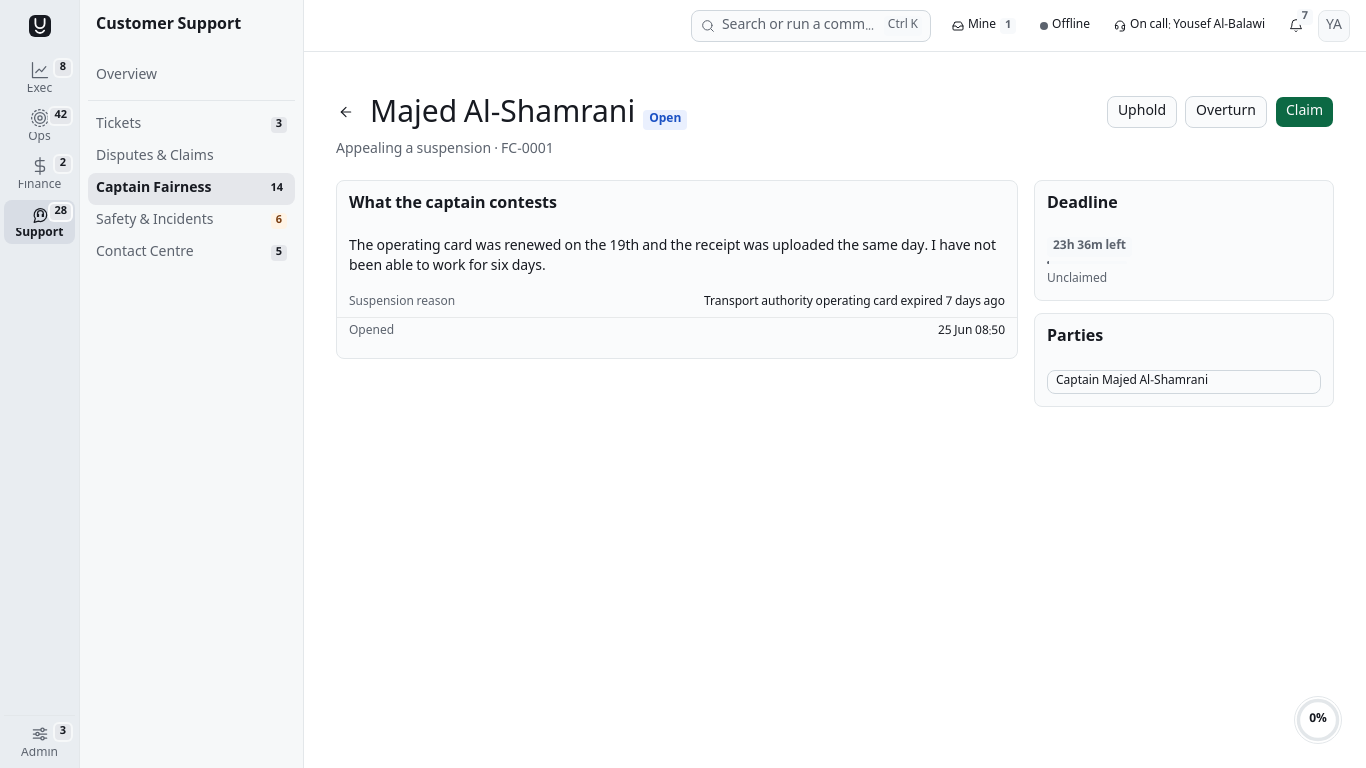
Test: the record (S-8) › decides with a required rationale, and the rationale reads back in full
Expected: the text "What the captain contests" is shown, [349,191,557,218]
Step 1. Click the button "Claim" → coordinates (1304, 112), box [1275,96,1334,128]
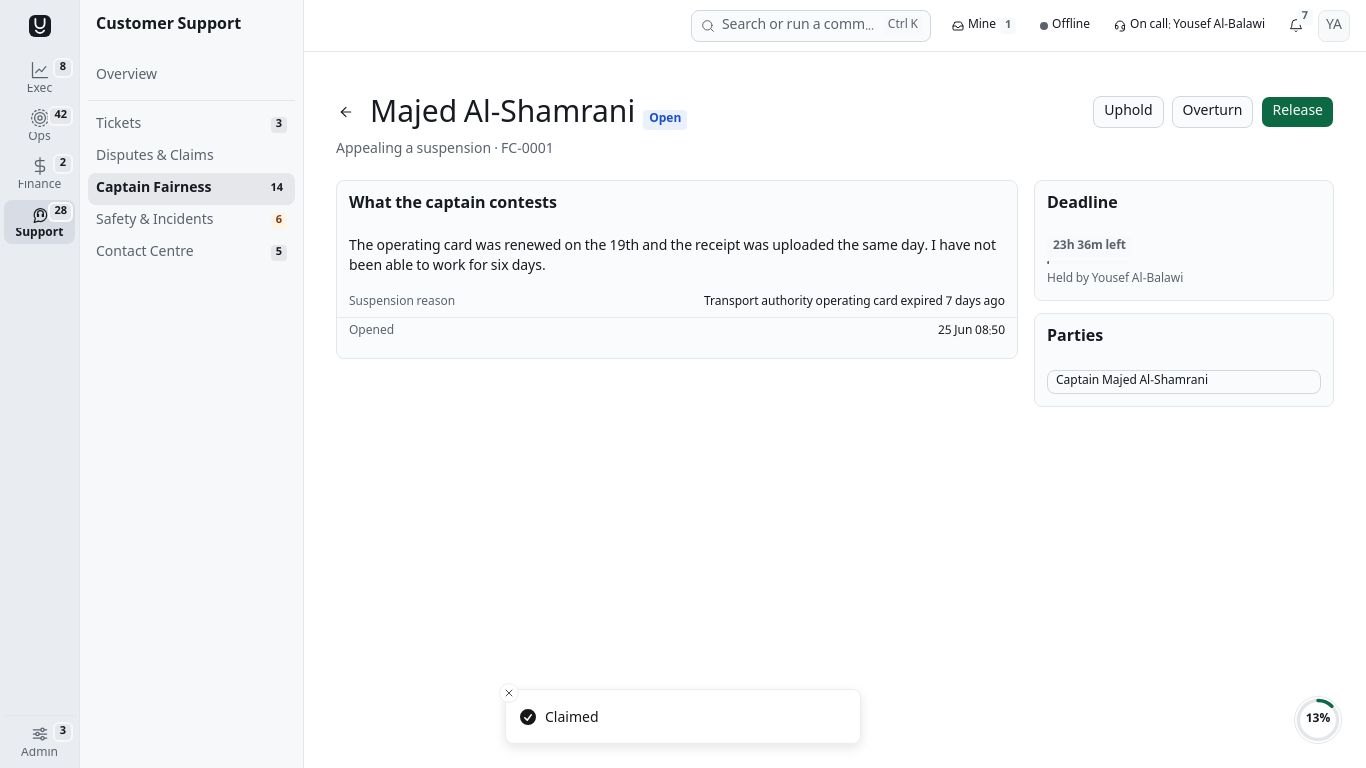
Expected: the button "Release" is shown, [1261,96,1334,128]
Step 2. Click the button "Overturn" → coordinates (1212, 112), box [1172,96,1253,128]
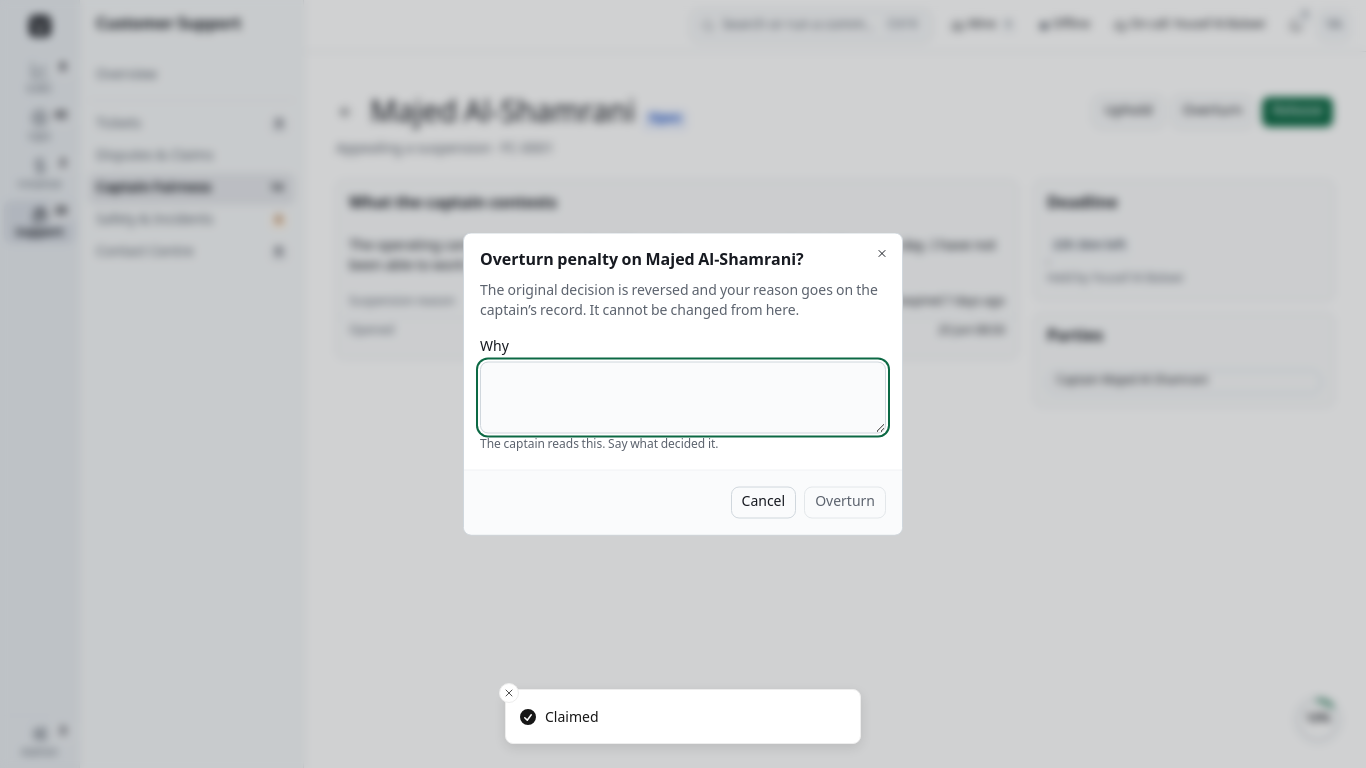
Expected: the button "Overturn" is disabled, [804,486,886,518]
Step 3. Type "The card was renewed on the day." into the text box labelled "Why" → coordinates (683, 398), box [480,362,886,434]
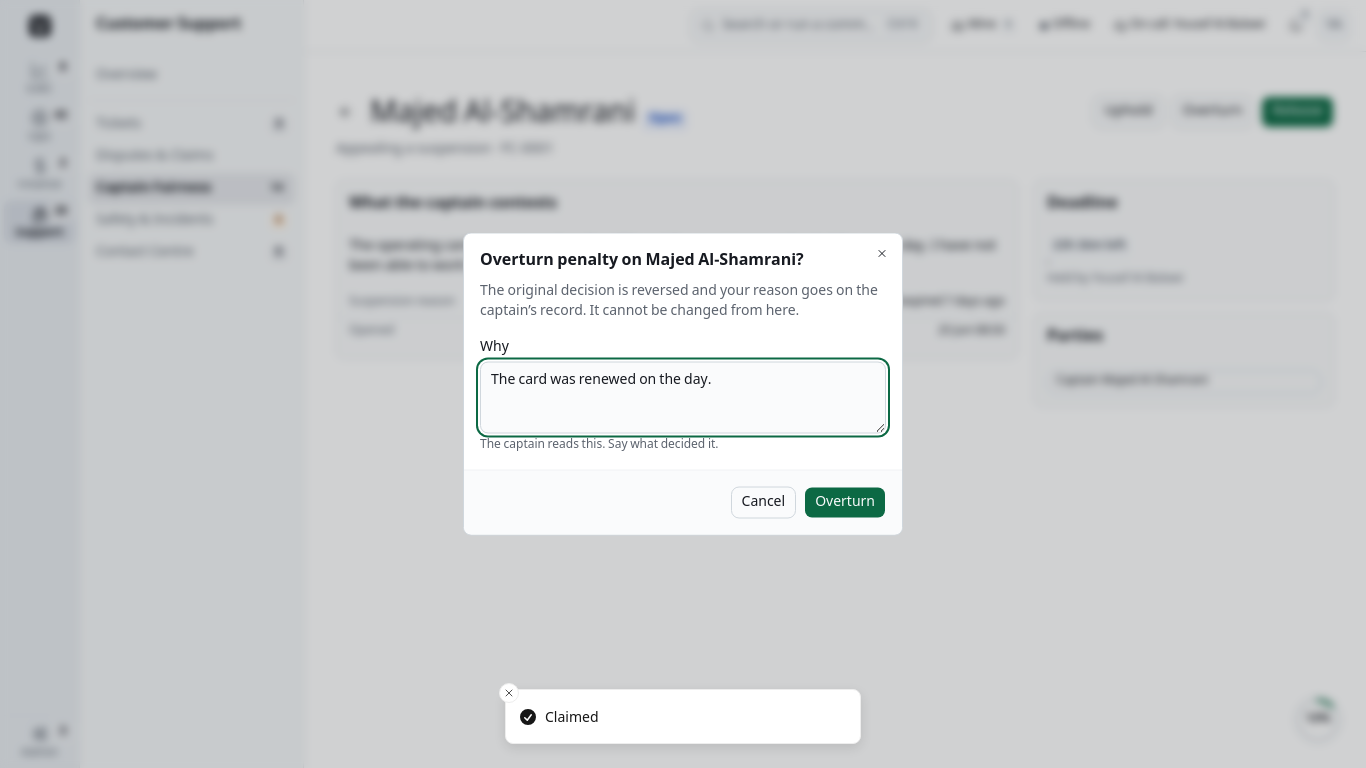
Step 4. Click the button "Overturn" → coordinates (845, 502), box [804,486,886,518]
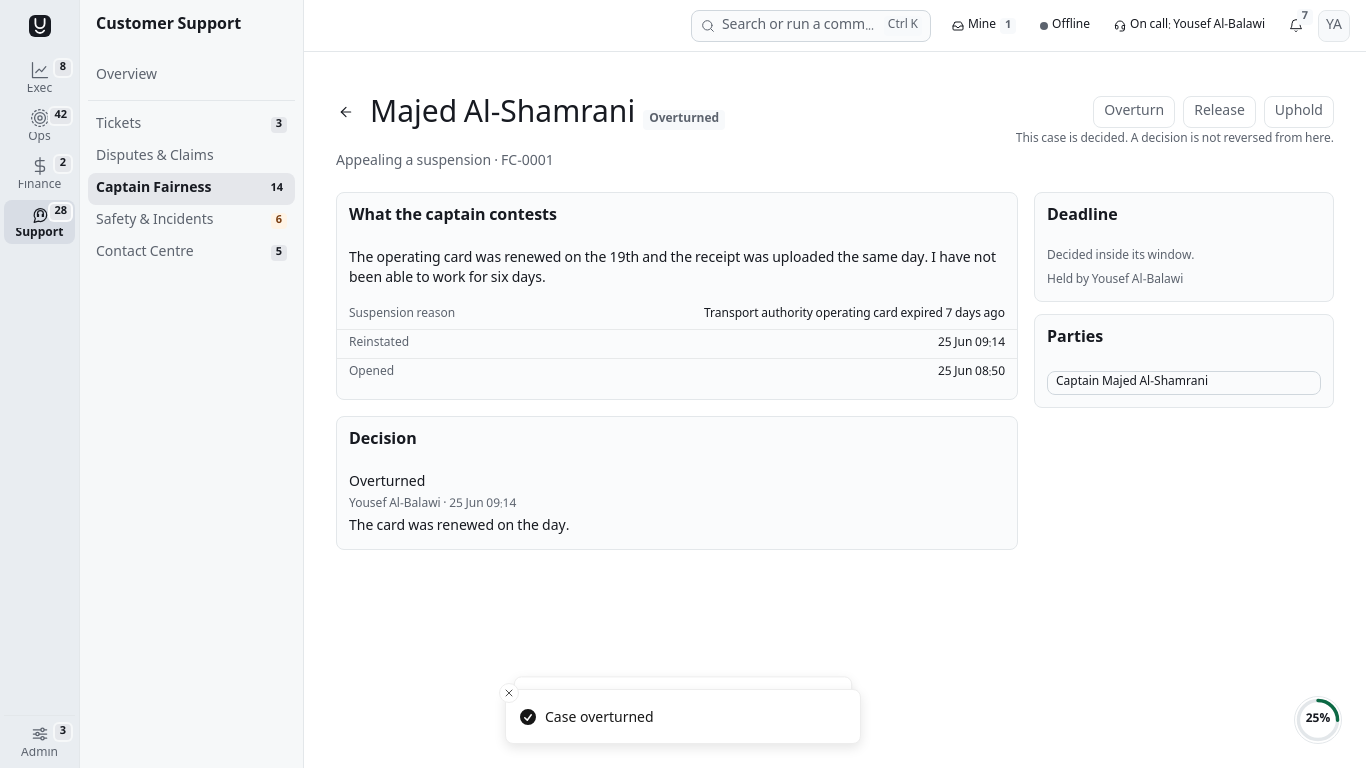
Expected: the text "The card was renewed on the day." is shown, [349,515,569,539]
Expected: the 1st text "Overturned" is shown, [643,110,725,130]
Expected: the button "Uphold" is disabled, [1264,96,1334,128]
